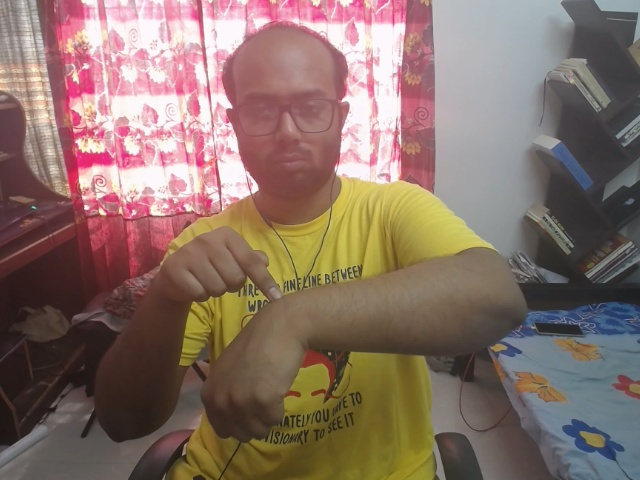time: (80, 216, 364, 467)
